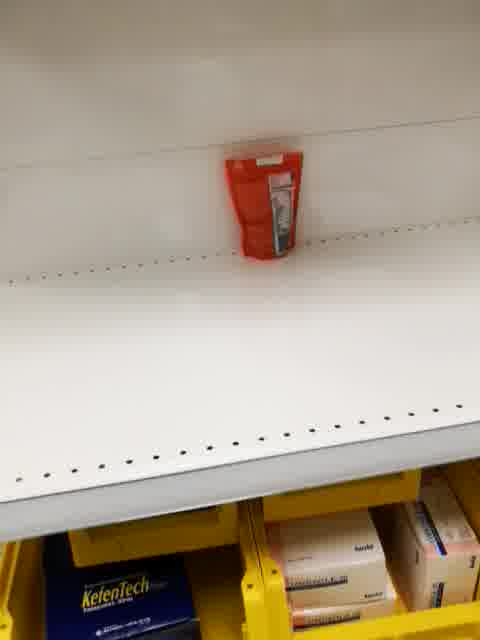whitechia: (221, 150, 306, 264)
